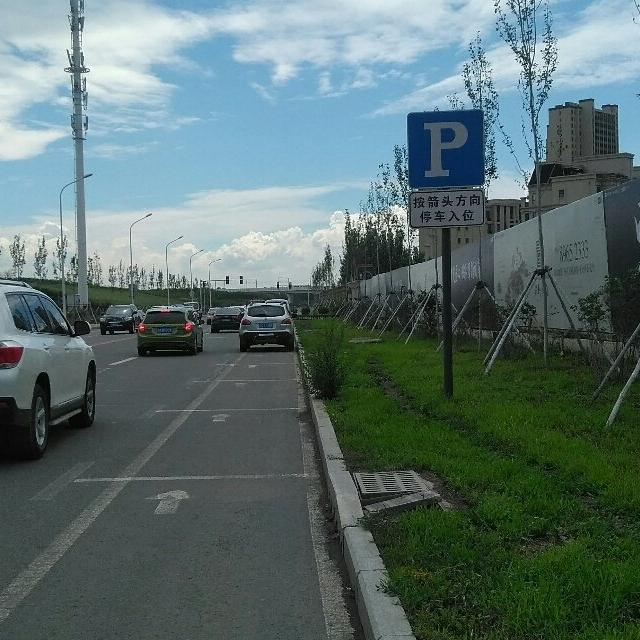curb: (293, 322, 414, 639)
